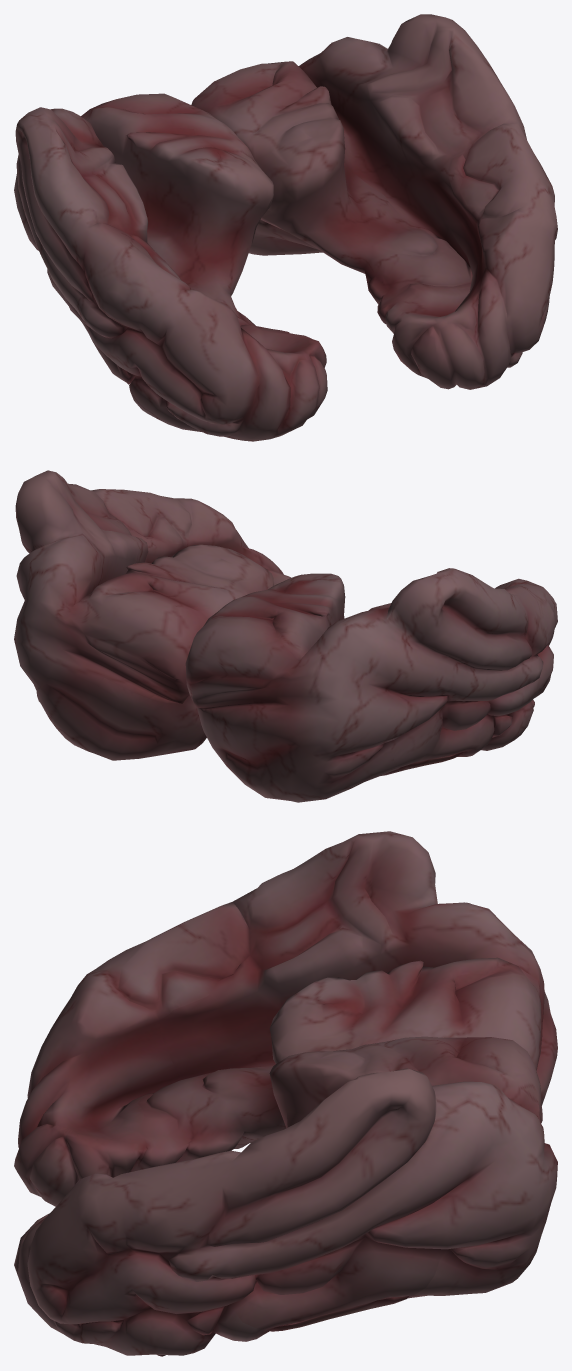
The model's file is Temporal_Lobe.gltf.
The picture shows the model from 3 angles, top to bottom: view 1: azimuth 30°, elevation 25°; view 2: azimuth 150°, elevation 25°; view 3: azimuth 270°, elevation 25°; orthographic projection. The views are drawn at different scales.
Visible parts, largest first — view 1: Temporal_Lobe_Left, Temporal_Lobe_Right; view 2: Temporal_Lobe_Right, Temporal_Lobe_Left; view 3: Temporal_Lobe_Left, Temporal_Lobe_Right.
Part boxes in pixels (bbox=[...]): Temporal_Lobe_Left: bbox=[191, 14, 557, 389]; Temporal_Lobe_Right: bbox=[14, 93, 327, 441]; Temporal_Lobe_Right: bbox=[185, 568, 557, 802]; Temporal_Lobe_Left: bbox=[14, 470, 291, 760]; Temporal_Lobe_Left: bbox=[14, 1036, 557, 1356]; Temporal_Lobe_Right: bbox=[14, 831, 557, 1206].
Size of the model in its own units: 12.74 by 6.69 by 10.52.
Materials: 1 (1 with a texture image).
